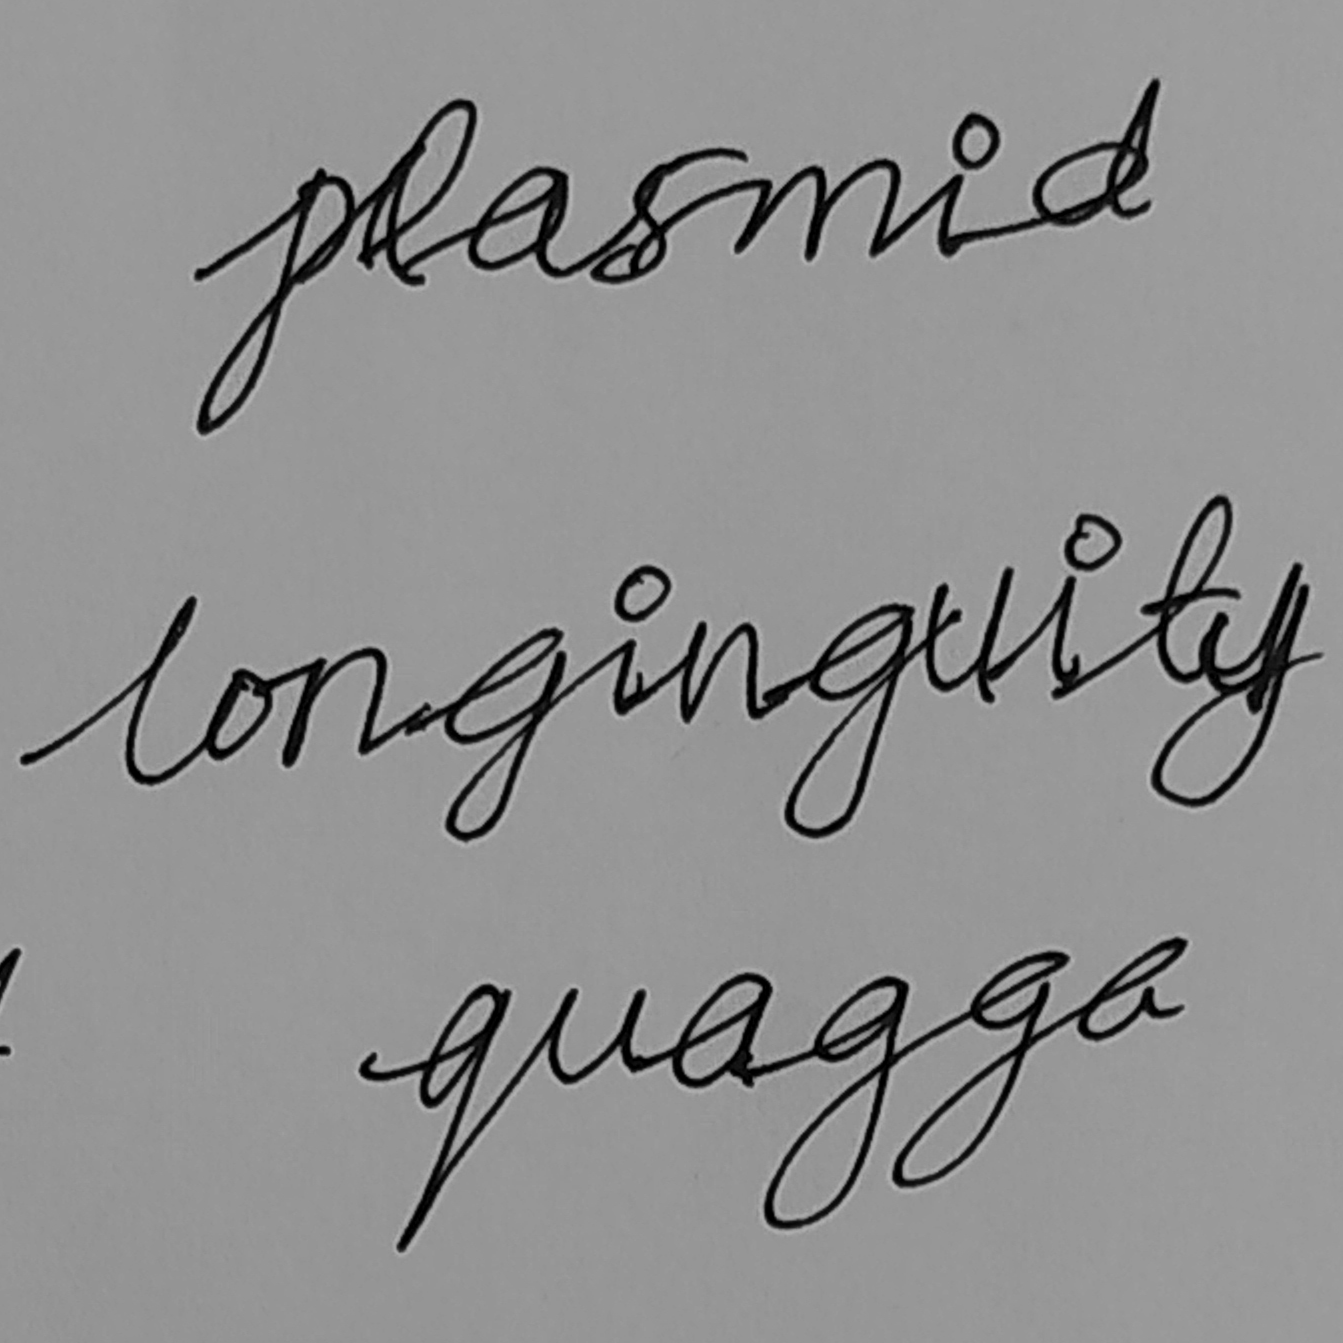g: (440, 624, 571, 846)
i: (1042, 507, 1127, 692), (605, 562, 674, 717)
l: (118, 592, 199, 788)
n: (279, 643, 391, 770), (675, 616, 766, 727)
o: (203, 667, 277, 763)
q: (778, 600, 917, 840)
t: (1138, 491, 1243, 685)
u: (922, 563, 1018, 710)
y: (1147, 580, 1313, 808)
